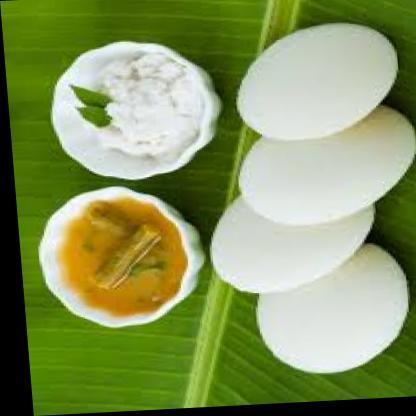idli: (231, 106, 416, 229), (247, 246, 407, 378), (231, 24, 399, 145), (202, 192, 377, 297)
